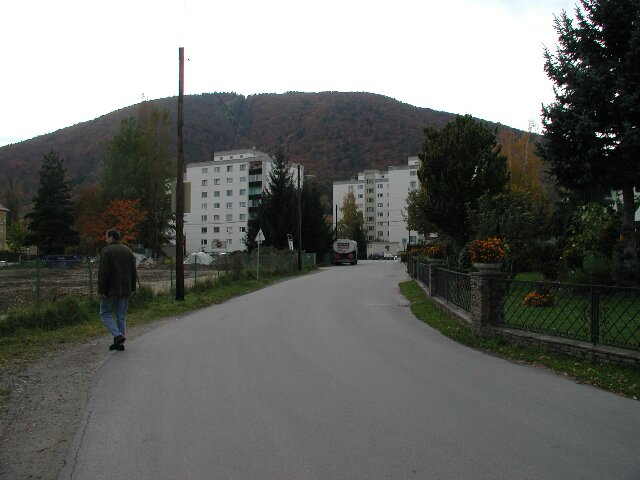person: (95, 221, 142, 358)
